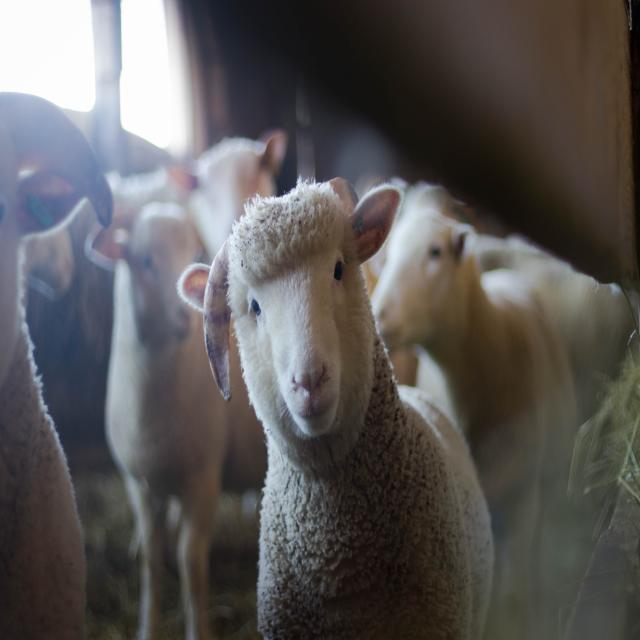sheep: (221, 239, 468, 640), (382, 165, 640, 539), (106, 162, 306, 640)
